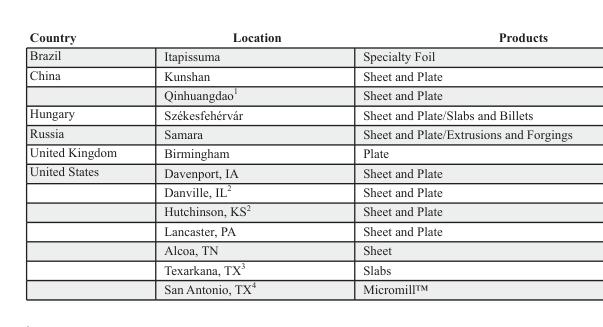table: (28, 29, 571, 295)
table column: (321, 29, 571, 295), (139, 29, 321, 295), (28, 29, 139, 295)
table column header: (28, 29, 571, 45)
table row: (28, 45, 571, 65), (28, 103, 571, 123), (28, 142, 571, 162), (28, 200, 571, 220), (28, 220, 571, 240), (28, 65, 571, 84), (28, 84, 571, 103), (28, 123, 571, 142), (28, 162, 571, 181), (28, 181, 571, 200), (28, 258, 571, 277), (28, 240, 571, 258), (28, 277, 571, 295), (28, 29, 571, 45)
table spanning cell: (28, 162, 139, 295), (28, 65, 139, 103)
